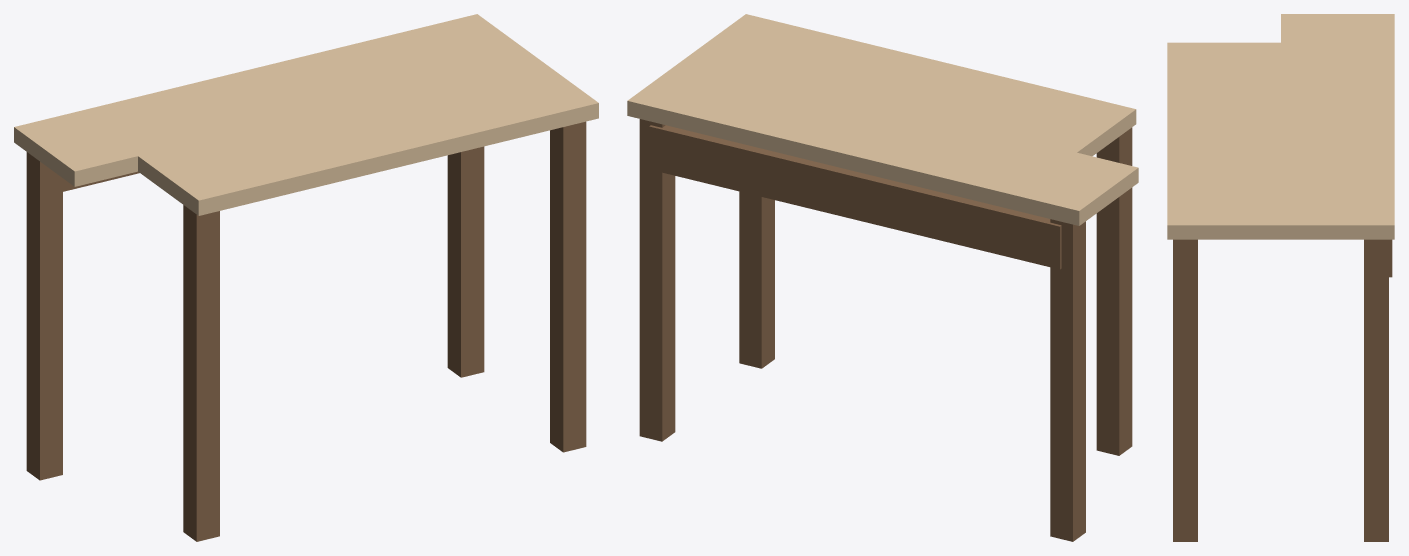
The picture shows the model from 3 angles, left to right: view 1: azimuth 30°, elevation 25°; view 2: azimuth 150°, elevation 25°; view 3: azimuth 270°, elevation 25°; orthographic projection. The views are drawn at different scales.
Visible parts, largest first — view 1: vanity-top, vanity-leg-left-front, vanity-leg-right-front, vanity-leg-left-back, vanity-leg-right-back, vanity-wing; view 2: vanity-top, vanity-back-brace, vanity-leg-left-back, vanity-leg-right-back, vanity-leg-left-front, vanity-leg-right-front, vanity-wing; view 3: vanity-top, vanity-leg-right-back, vanity-leg-right-front, vanity-wing.
Part boxes in pixels (x1=…): vanity-top: x1=77, y1=14, x2=598, y2=215; vanity-leg-left-front: x1=183, y1=205, x2=219, y2=541; vanity-leg-right-front: x1=550, y1=121, x2=586, y2=452; vanity-leg-left-back: x1=26, y1=152, x2=62, y2=480; vanity-leg-right-back: x1=447, y1=146, x2=484, y2=377; vanity-wing: x1=14, y1=111, x2=137, y2=186; vanity-top: x1=627, y1=14, x2=1136, y2=210; vanity-back-brace: x1=649, y1=125, x2=1061, y2=269; vanity-leg-left-back: x1=1050, y1=219, x2=1085, y2=541; vanity-leg-right-back: x1=639, y1=119, x2=675, y2=441; vanity-leg-left-front: x1=1096, y1=127, x2=1132, y2=455; vanity-leg-right-front: x1=739, y1=191, x2=774, y2=368; vanity-wing: x1=1017, y1=152, x2=1138, y2=225; vanity-top: x1=1167, y1=42, x2=1394, y2=239; vanity-leg-right-back: x1=1364, y1=239, x2=1388, y2=541; vanity-leg-right-front: x1=1173, y1=239, x2=1197, y2=541; vanity-wing: x1=1281, y1=14, x2=1394, y2=42.
Bounding box in the file's own units: 1.1 × 0.78 × 0.5.
